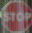Stop: (1, 3, 31, 28)
